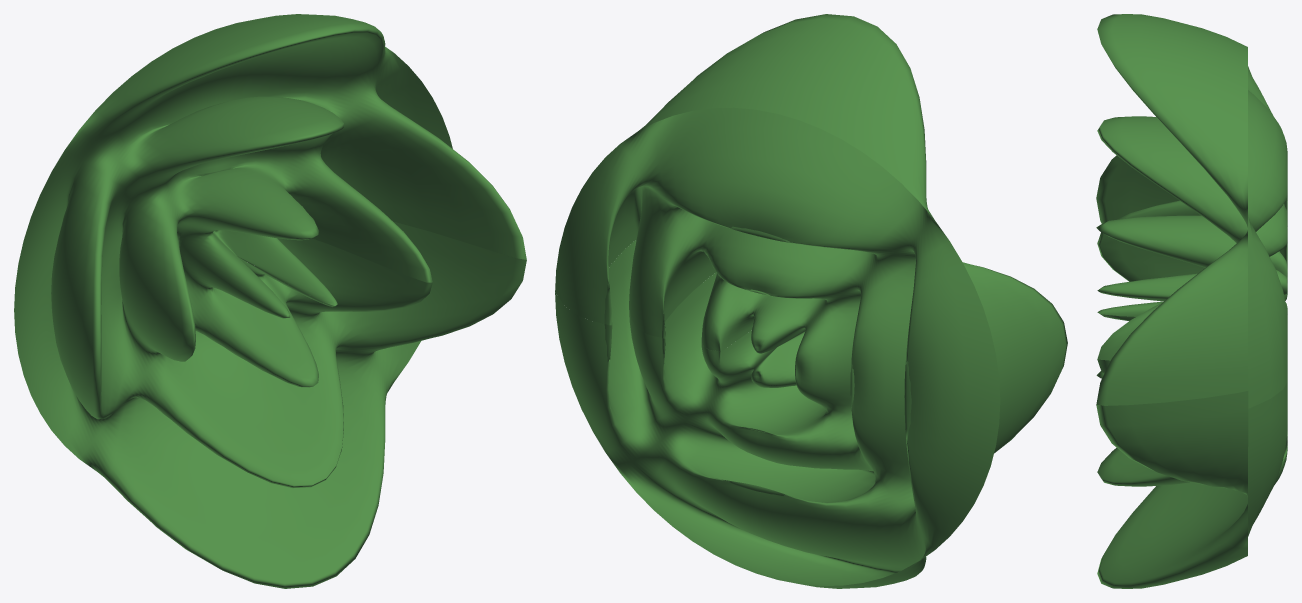
File: scalar_field_inflation_ar_universal.glb
3 renders of one model, left to right at view 1: azimuth 30°, elevation 25°; view 2: azimuth 150°, elevation 25°; view 3: azimuth 270°, elevation 25°, orthographic.
Visible parts, largest first — view 1: scalar_field_inflation_ar; view 2: scalar_field_inflation_ar; view 3: scalar_field_inflation_ar.
Boxes of the visible parts, x1,y1,x2,y2 form: scalar_field_inflation_ar: (14, 14, 526, 588); scalar_field_inflation_ar: (555, 14, 1067, 588); scalar_field_inflation_ar: (1096, 14, 1287, 588).
Bounding box in the file's own units: 0.8467 × 1 × 0.3184.
